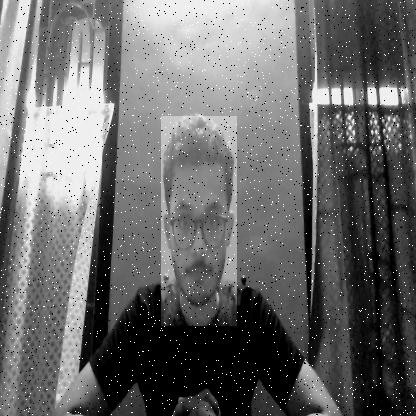Normal: (161, 116, 237, 326)
